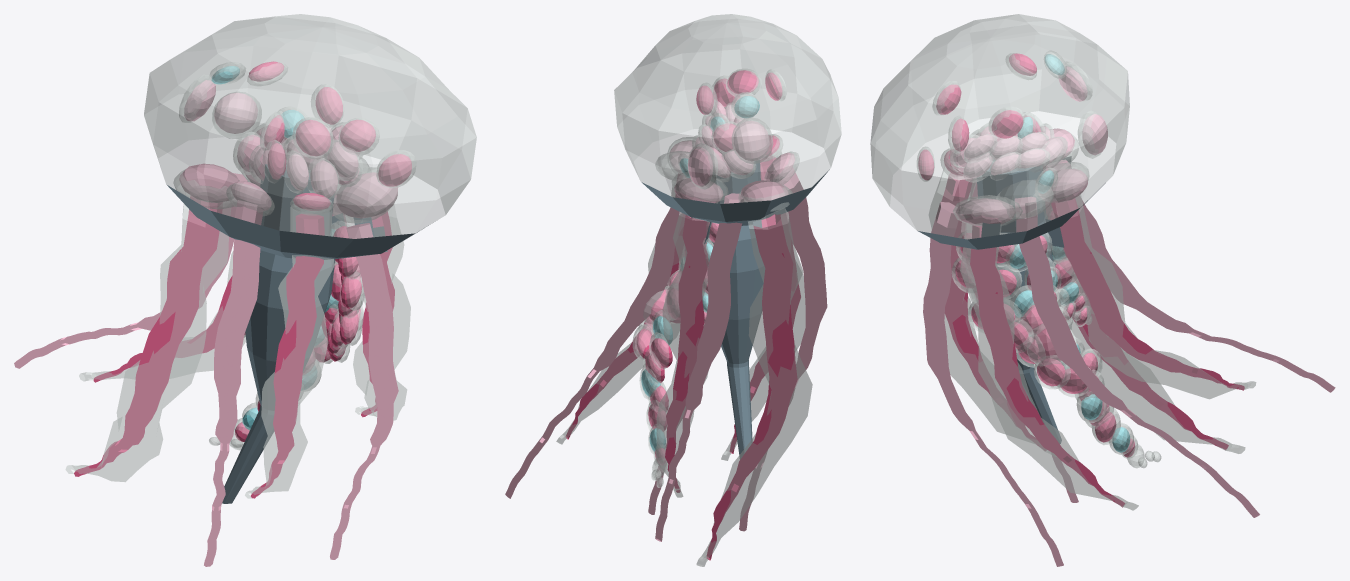
Rendered from Jellyfish.glb.
The picture shows the model from 3 angles, left to right: view 1: azimuth 30°, elevation 25°; view 2: azimuth 150°, elevation 25°; view 3: azimuth 270°, elevation 25°; orthographic projection. The views are drawn at different scales.
Parts seen in each view (by area): view 1: Node; view 2: Node; view 3: Node.
Boxes of the visible parts, <box> form: Node: <box>14,14,476,566</box>; Node: <box>505,14,841,566</box>; Node: <box>870,14,1335,566</box>.
Bounding box in the file's own units: 0.5439 × 1.07 × 0.8926.
